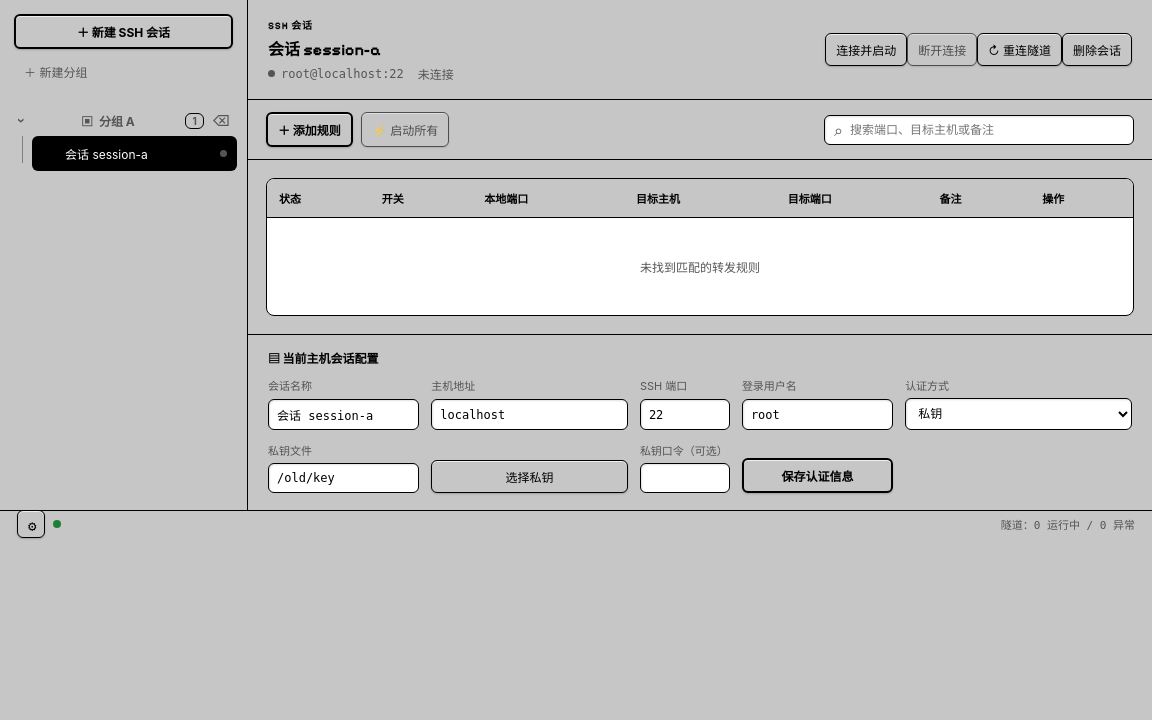
Scenario: App › preserves the private-key path and reports a specific error when the picker fails
The image size is (1152, 720).
What coordinates should you click on to do the following:
click the button with test id "choose-private-key"
I would click on:
 (530, 476)
Its box is [431,460,628,493].
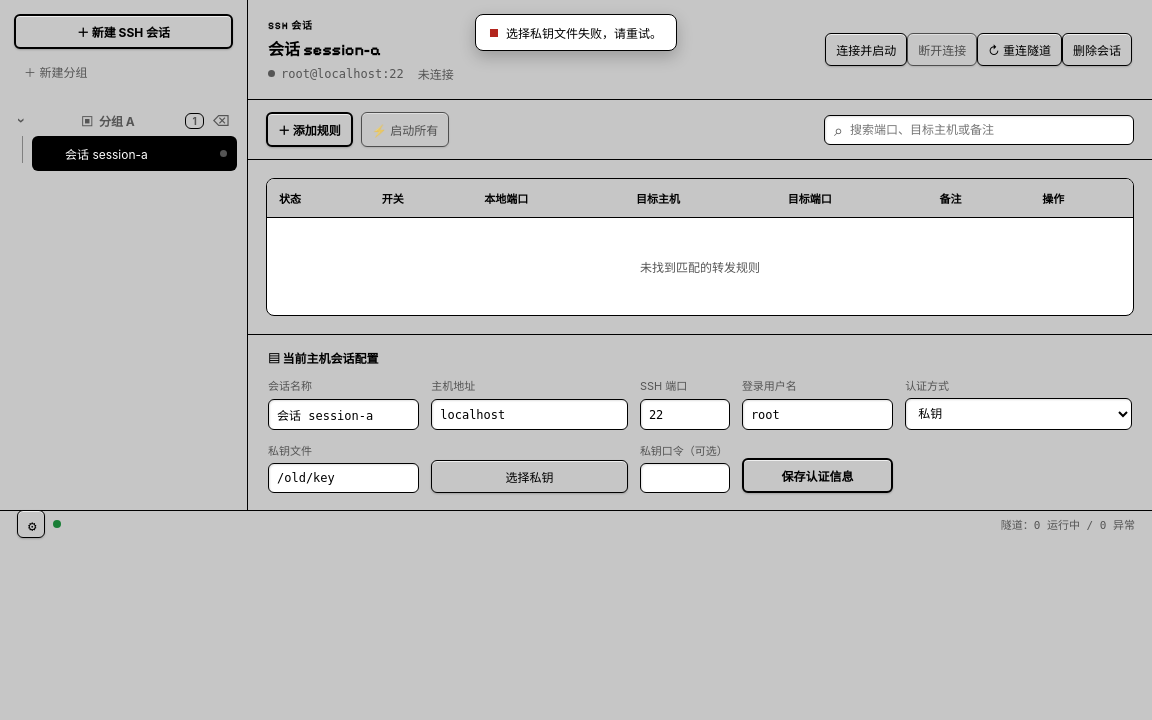
Expected: the field named "私钥文件" holds "/old/key", [268,463,419,493]
Expected: the element with test id "toast-stack" reads "选择私钥文件失败，请重试。", [506,26,662,41]
